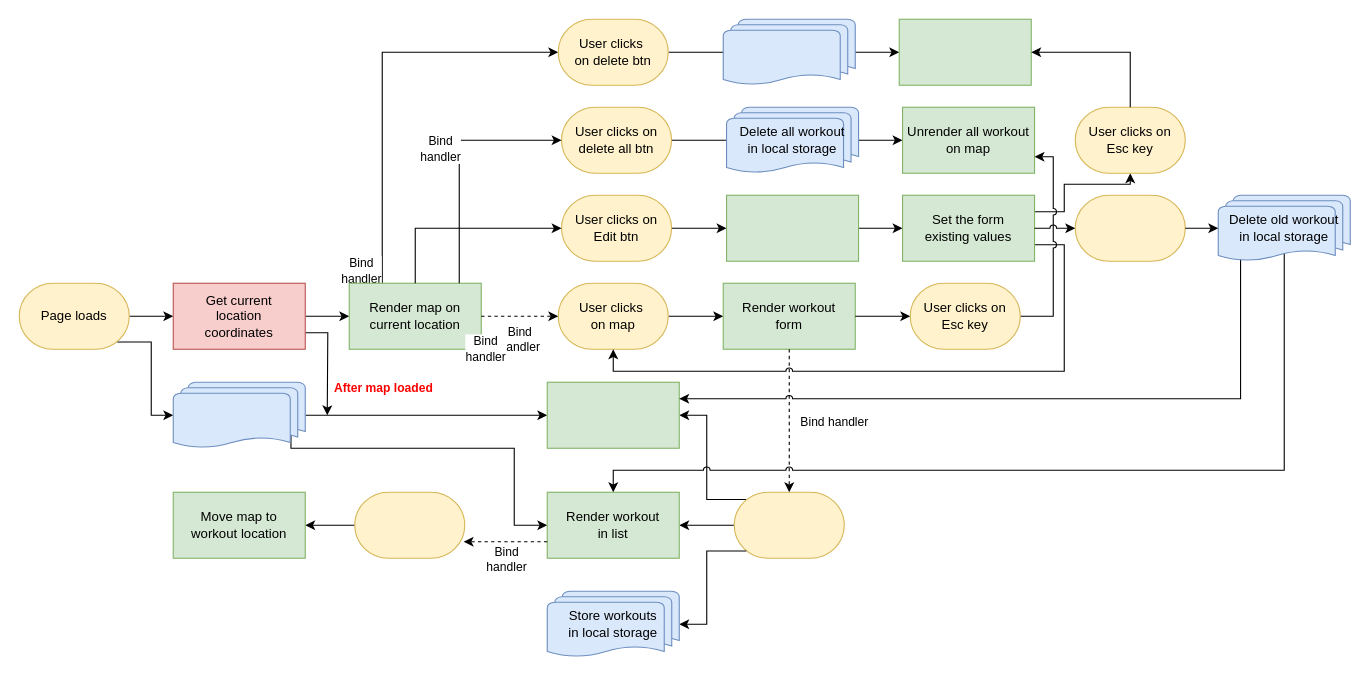
The diagram is 1370 pixels wide and 677 high, and some of its shapes have lost their labels. Here are the shapes that lost their labels. From the top down, the box of each, then its label:
(722, 18, 855, 85): Delete workout in local storage
(898, 18, 1031, 85): Unrender workout on map
(725, 194, 859, 261): Assign workout id to #editId
(1074, 194, 1185, 261): User submits workout
(172, 381, 305, 448): Load workouts from local storage
(546, 381, 679, 448): Render workout on map
(354, 491, 465, 558): User clicks on workout in list
(733, 491, 844, 558): User submits new workout
